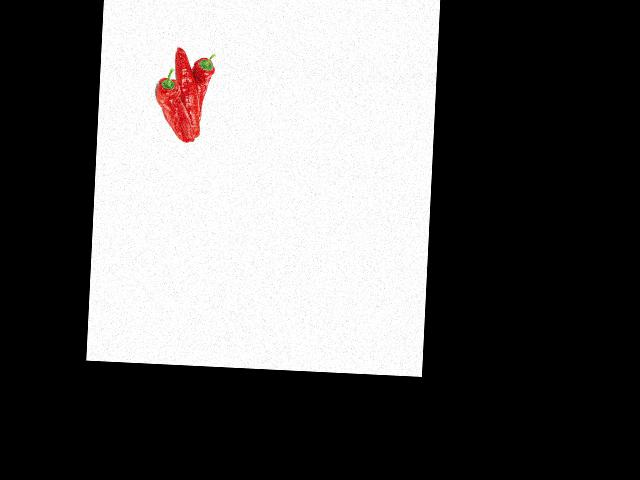bell_pepper: (151, 65, 189, 143)
